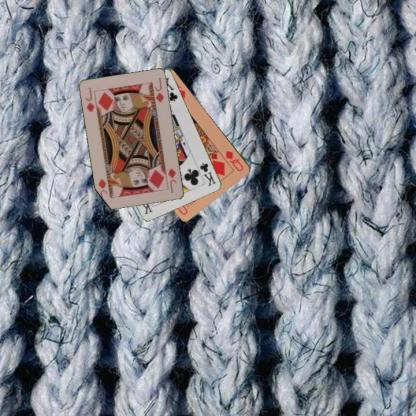Jd: (82, 85, 96, 114), (166, 166, 178, 195)
Kc: (198, 160, 217, 188)
Qd: (223, 148, 245, 173)
